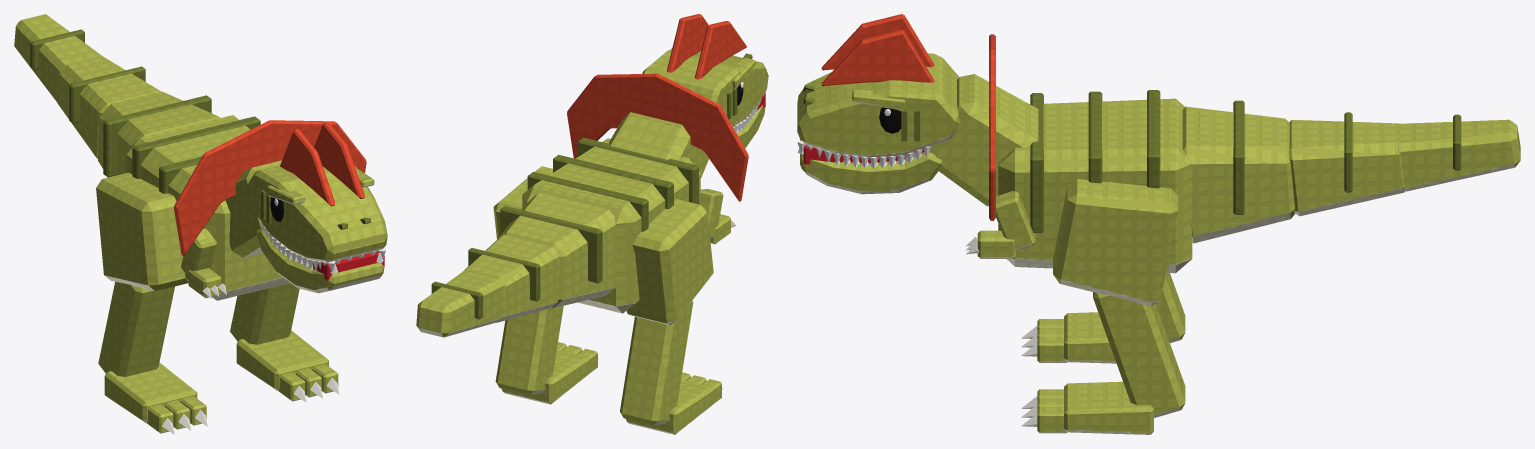
Rendered from 07_Dilophosaurus.glb.
3 views of the same model, side by side, from view 1: azimuth 30°, elevation 25°; view 2: azimuth 150°, elevation 25°; view 3: azimuth 270°, elevation 25° (orthographic). The views are drawn at different scales.
Visible parts, largest first — view 1: 07_Dilophosaurus; view 2: 07_Dilophosaurus; view 3: 07_Dilophosaurus.
Boxes of the visible parts, x1,y1,x2,y2 form: 07_Dilophosaurus: [14, 14, 387, 434]; 07_Dilophosaurus: [416, 14, 768, 434]; 07_Dilophosaurus: [797, 14, 1520, 434].
Size of the model in its own units: 3.14 by 5.22 by 9.4.
Materials: 1 (1 with a texture image).
